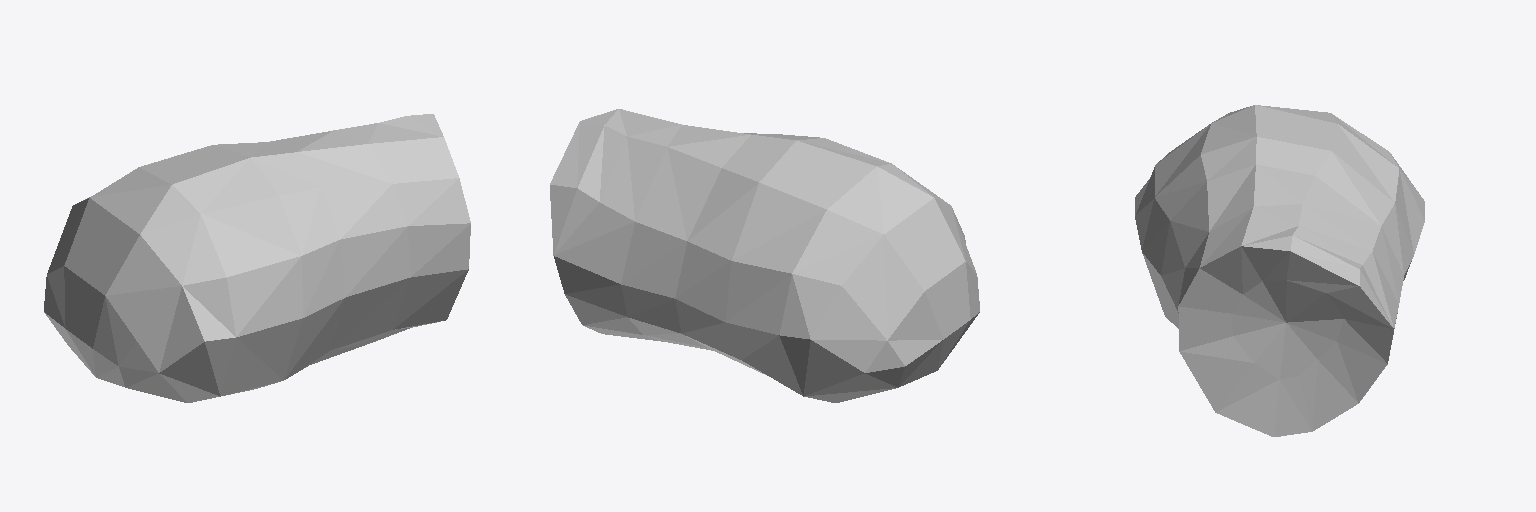
The model's file is armUL.obj.
3 views of the same model, side by side, from view 1: azimuth 30°, elevation 25°; view 2: azimuth 150°, elevation 25°; view 3: azimuth 270°, elevation 25° (orthographic).
Visible parts, largest first — view 1: armUL_mat4 armUL; view 2: armUL_mat4 armUL; view 3: armUL_mat4 armUL.
Part boxes in pixels (x1,y1,x2,y2): armUL_mat4 armUL: (44, 114, 470, 402); armUL_mat4 armUL: (550, 109, 979, 402); armUL_mat4 armUL: (1135, 105, 1424, 436).
Size of the model in its own units: 0.2791 by 0.162 by 0.192.